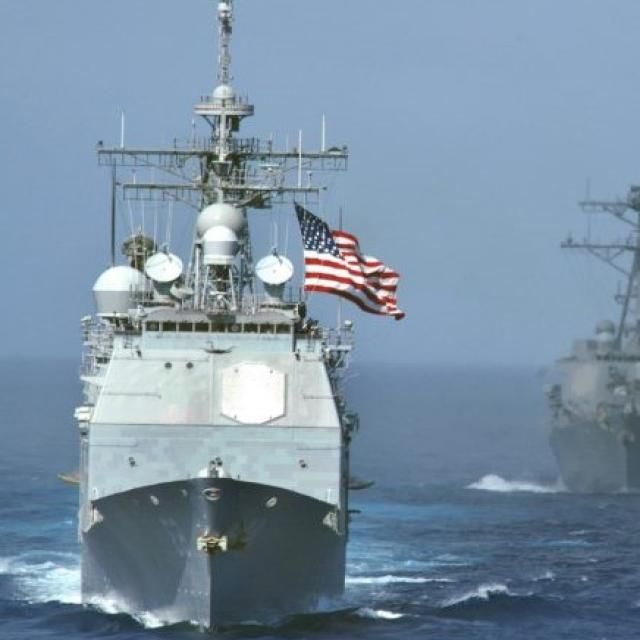navalvessels: (56, 3, 417, 615), (523, 175, 640, 494)
